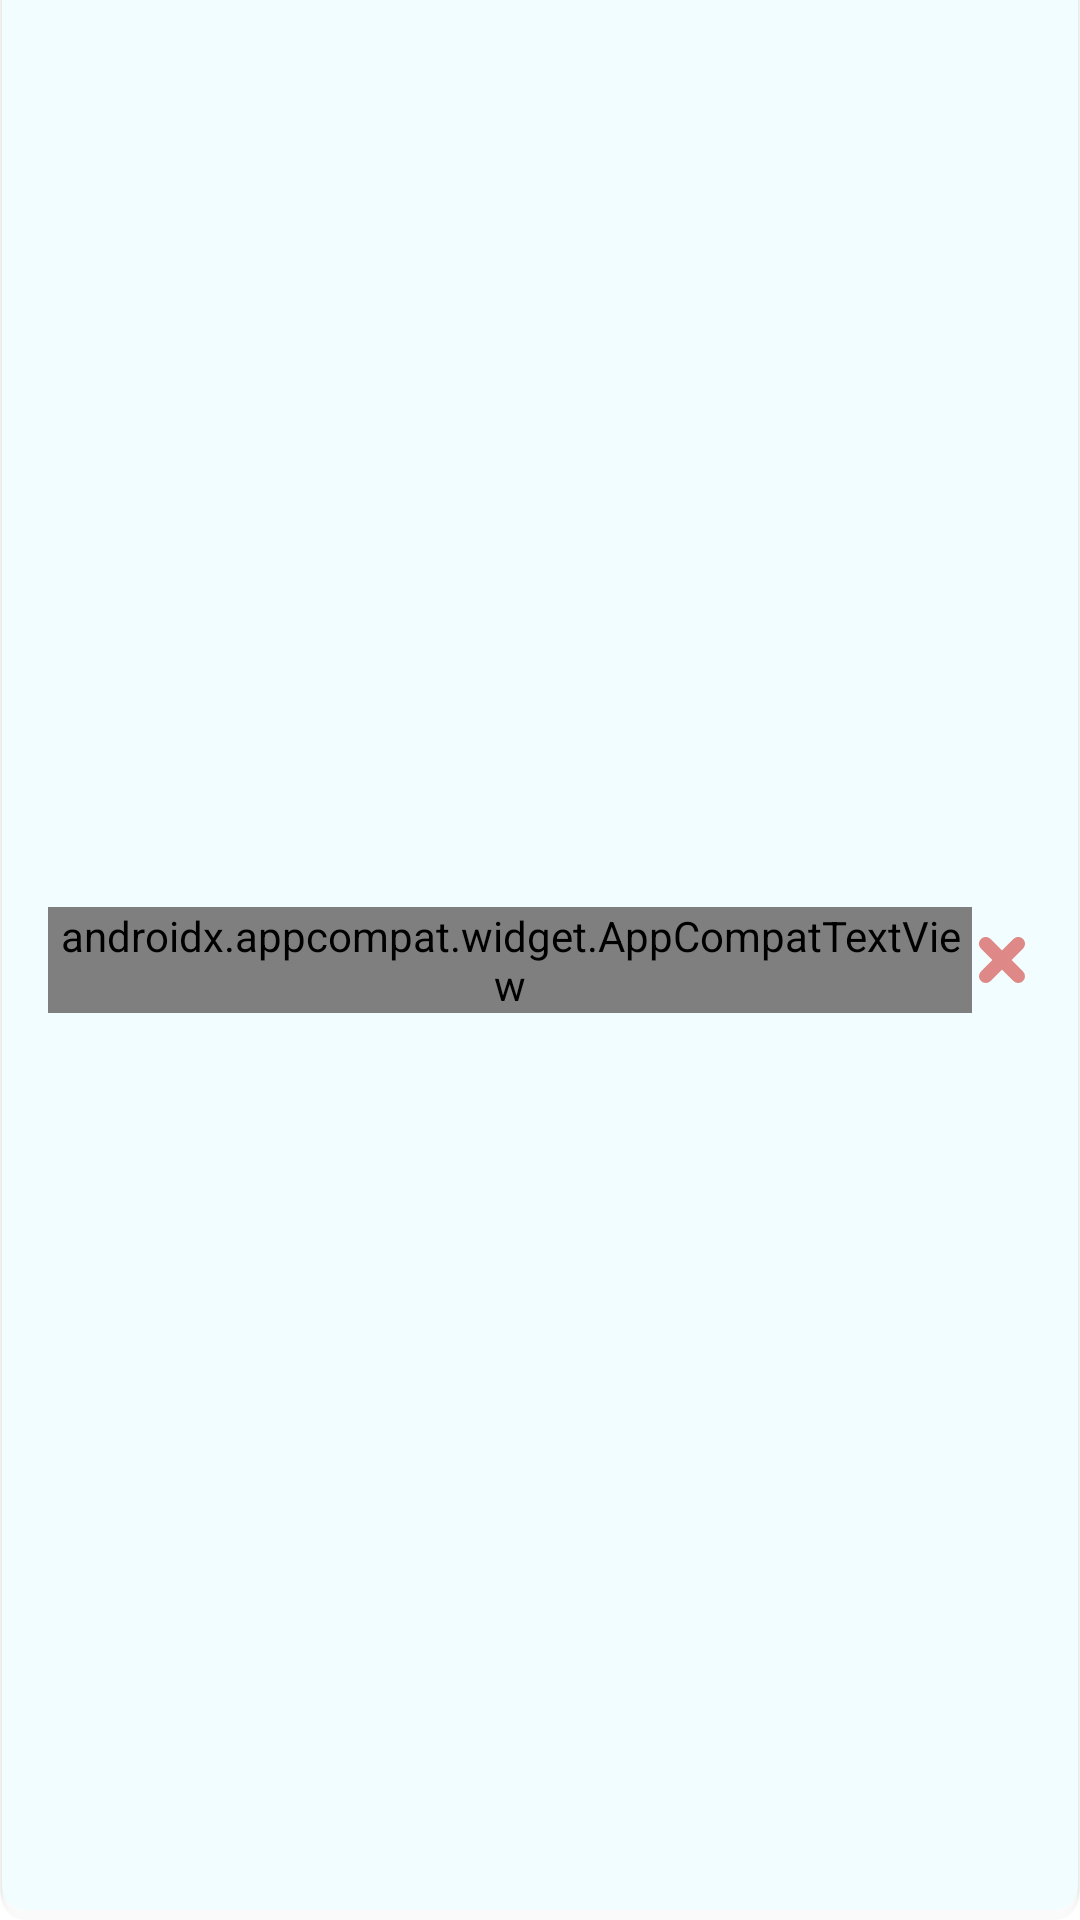

Screen size 1080px×1920px. Icon name, then its box in pixels as (left=x1, top=y1, right=x2, bottom=y2):
erase connection: (left=979, top=937, right=1025, bottom=983)
